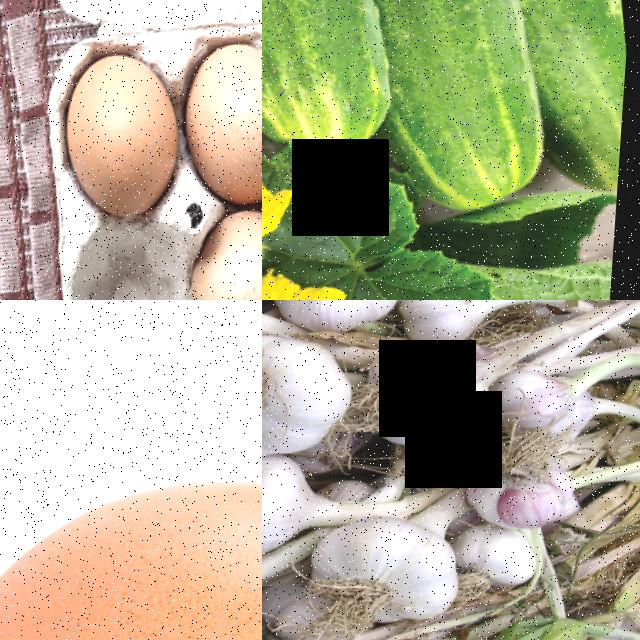cucumber: (321, 0, 569, 219), (262, 0, 414, 167), (512, 0, 638, 191)
egg_: (0, 427, 262, 640), (50, 37, 197, 228), (172, 25, 262, 210), (178, 191, 262, 300)
garlic: (311, 500, 475, 631), (363, 326, 502, 452), (262, 321, 368, 464), (262, 442, 332, 569), (262, 300, 408, 338), (400, 300, 511, 348)
